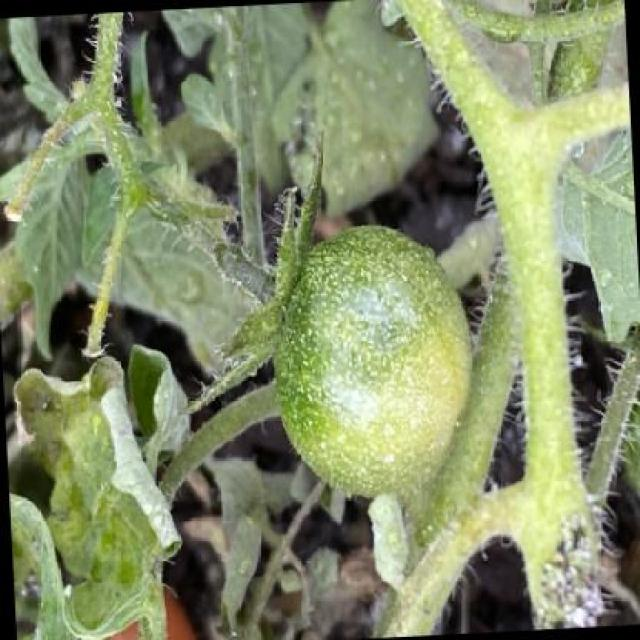unripe tomato: (264, 210, 478, 502)
